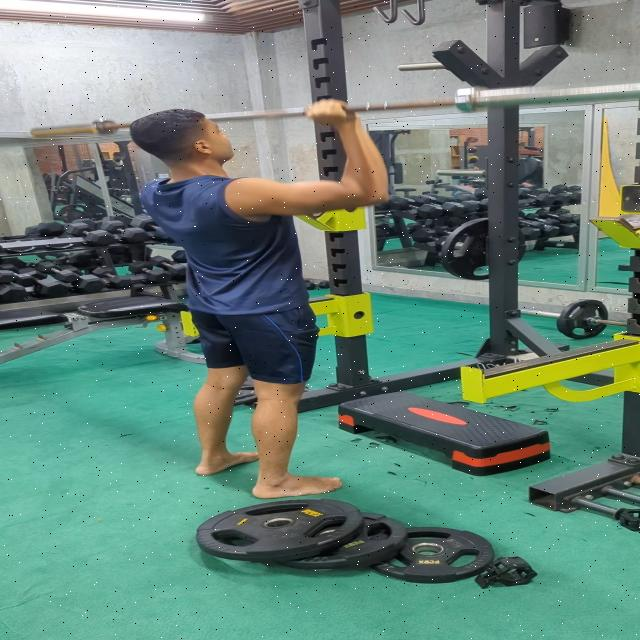Normal_OverheadPress: (124, 71, 409, 502)
